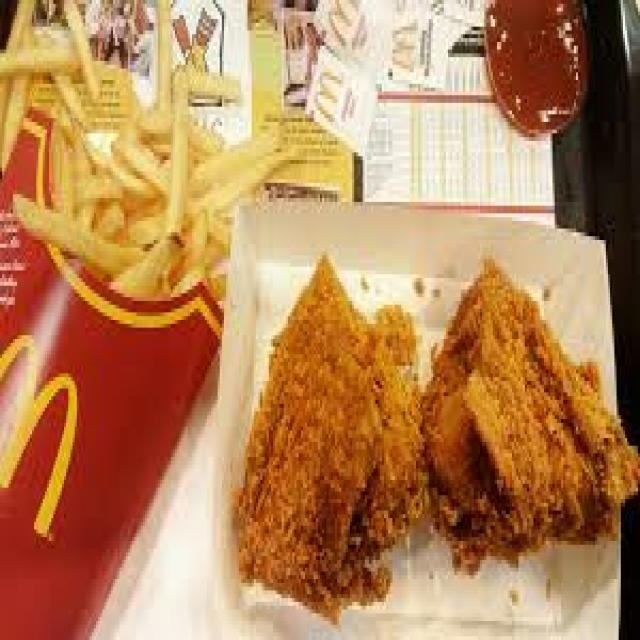Frango: (395, 292, 601, 554), (259, 273, 420, 556)
